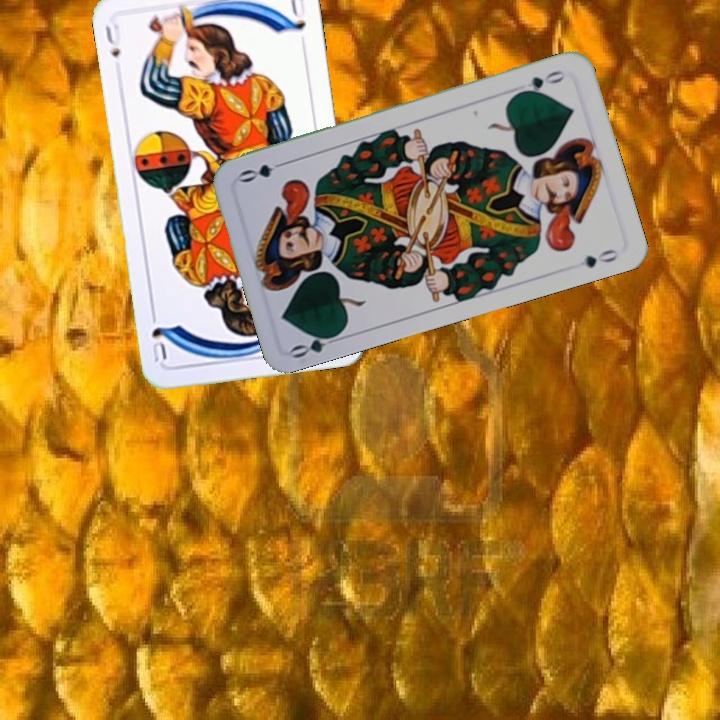GO: (287, 327, 346, 361), (513, 66, 569, 97)
SU: (101, 20, 124, 61)
